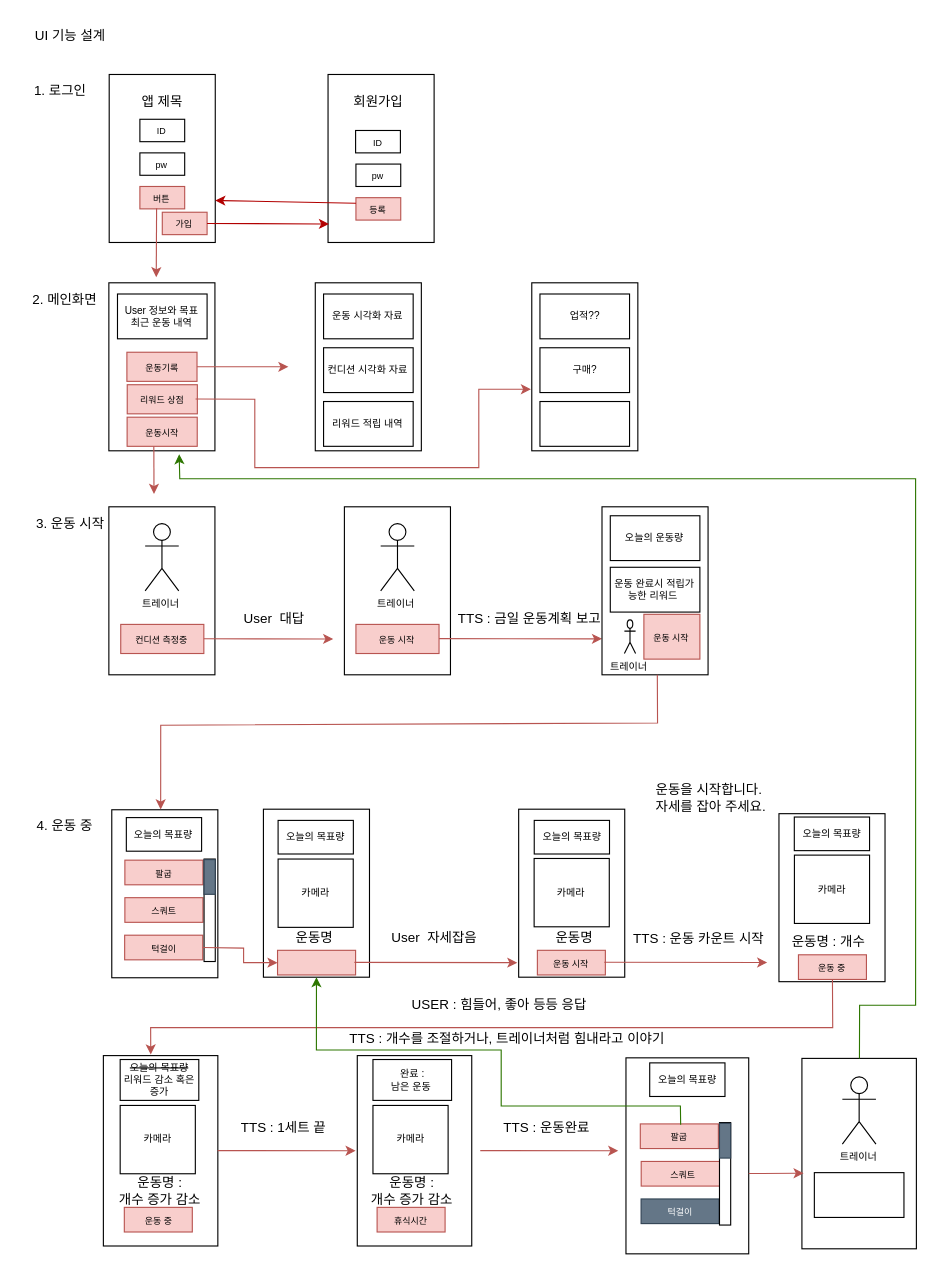
Some shapes in this 944 by 1273 pixel diagram are drawn without their labels. Each missing label, with the box of its shape:
오늘의 운동량 리워드 출력: (813, 1172, 904, 1217)
자세 확인 중: (276, 949, 356, 975)
